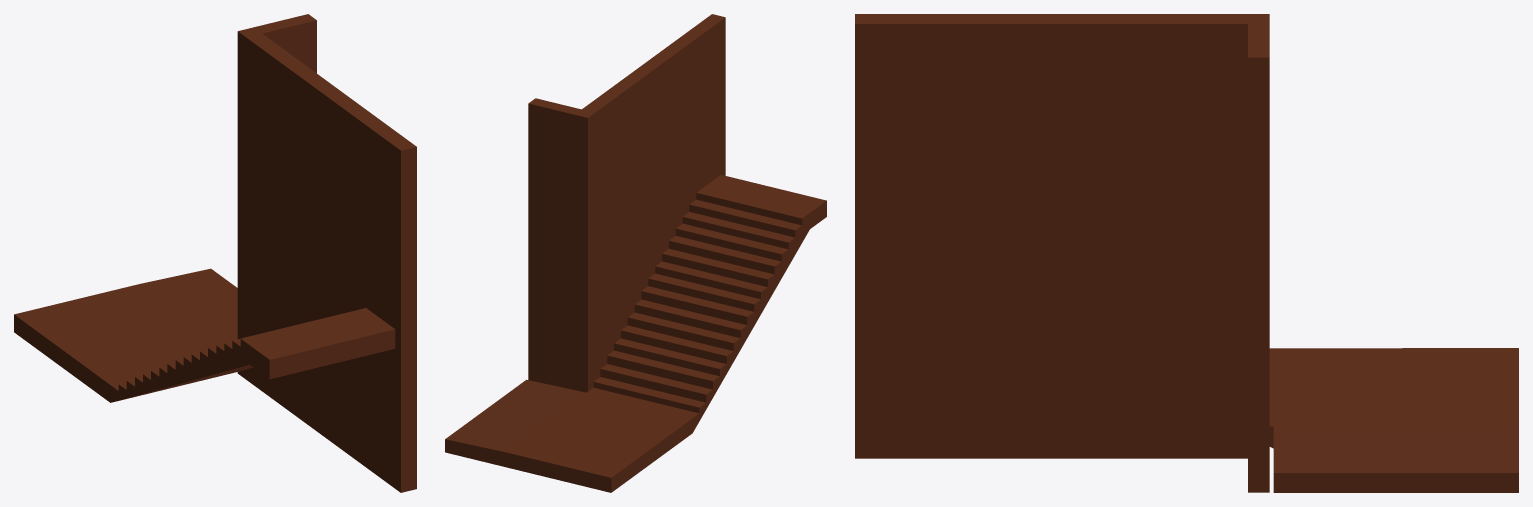
The model's file is escada_level2.fbx.
3 renders of one model, left to right at view 1: azimuth 30°, elevation 25°; view 2: azimuth 150°, elevation 25°; view 3: azimuth 270°, elevation 25°, orthographic. The views are drawn at different scales.
Parts seen in each view (by area): view 1: escadas.002; view 2: escadas.002; view 3: escadas.002.
Part boxes in pixels (x1,y1,x2,y2): escadas.002: (14, 14, 416, 492); escadas.002: (445, 14, 826, 492); escadas.002: (855, 14, 1518, 492).
Size of the model in its own units: 544 by 902 by 1249.
